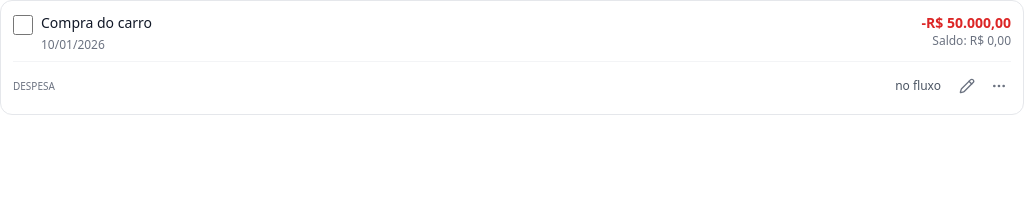
Test: atalho de regra (raio) › o card do celular também oferece
Click the button named "Mais ações".
click(999, 86)  # box 987,74 -> 1011,98
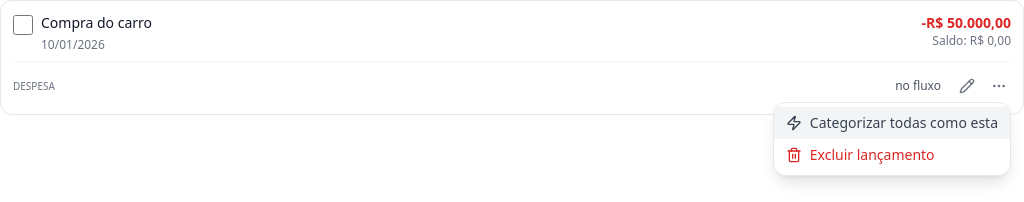
expect the menu item "Categorizar todas como esta" is shown: met, box 774,107 -> 1010,139
